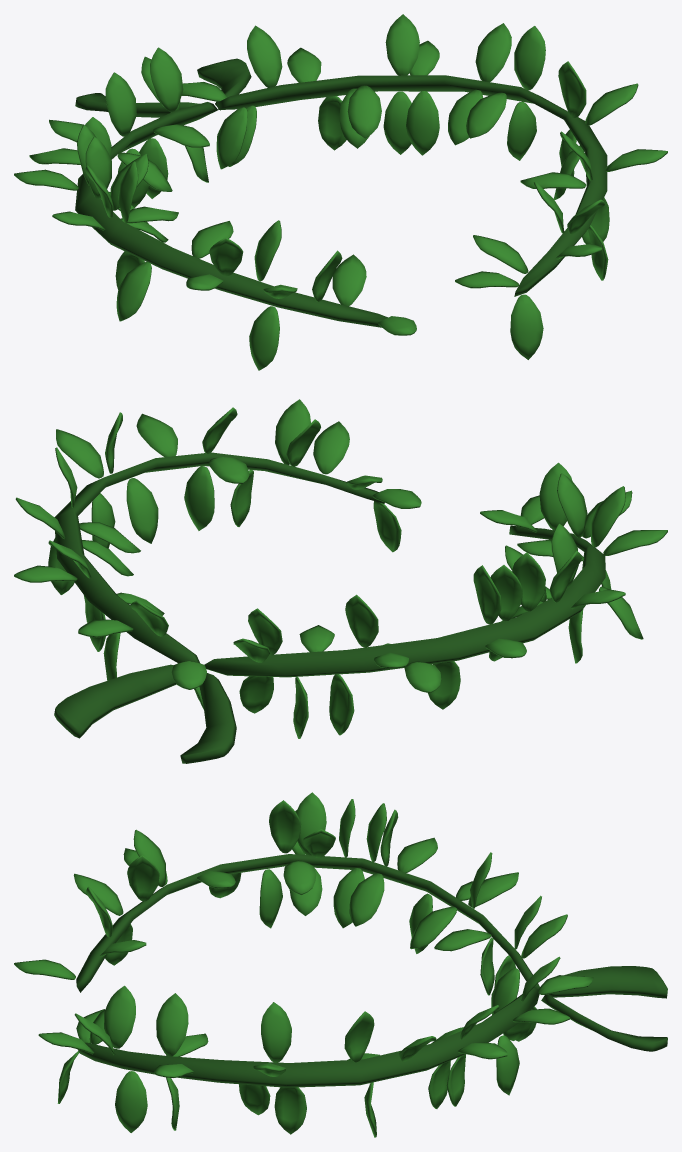
The model's file is CoronaLaurel 1.fbx.
The picture shows the model from 3 angles, top to bottom: view 1: azimuth 30°, elevation 25°; view 2: azimuth 150°, elevation 25°; view 3: azimuth 270°, elevation 25°; orthographic projection. The views are drawn at different scales.
Parts seen in each view (by area): view 1: Plane.024, Plane.026; view 2: Plane.024, Plane.026; view 3: Plane.024, Plane.026.
Part boxes in pixels (x1,y1,x2,y2): Plane.024: (14,14,667,370); Plane.026: (75,58,251,117); Plane.024: (14,399,667,738); Plane.026: (54,664,236,763); Plane.024: (14,792,593,1137); Plane.026: (541,966,667,1051).
Bounding box in the file's own units: 76.66 × 23.29 × 79.45.
